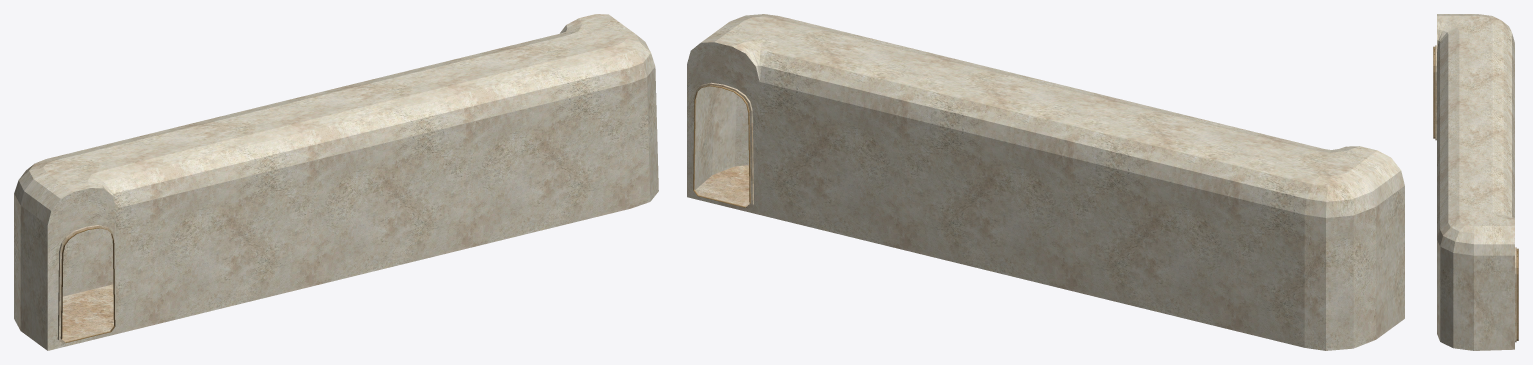
File: ply_tato_house_m_s01_fp1_r1_hall1_mesh_r1.fbx
3 views of the same model, side by side, from view 1: azimuth 30°, elevation 25°; view 2: azimuth 150°, elevation 25°; view 3: azimuth 270°, elevation 25° (orthographic). The views are drawn at different scales.
Visible parts, largest first — view 1: mesh_node; view 2: mesh_node; view 3: mesh_node.
Boxes of the visible parts, x1,y1,x2,y2 form: mesh_node: [14, 14, 658, 350]; mesh_node: [687, 14, 1404, 350]; mesh_node: [1433, 14, 1518, 350].
Size of the model in its own units: 18.34 by 4.25 by 2.87.
